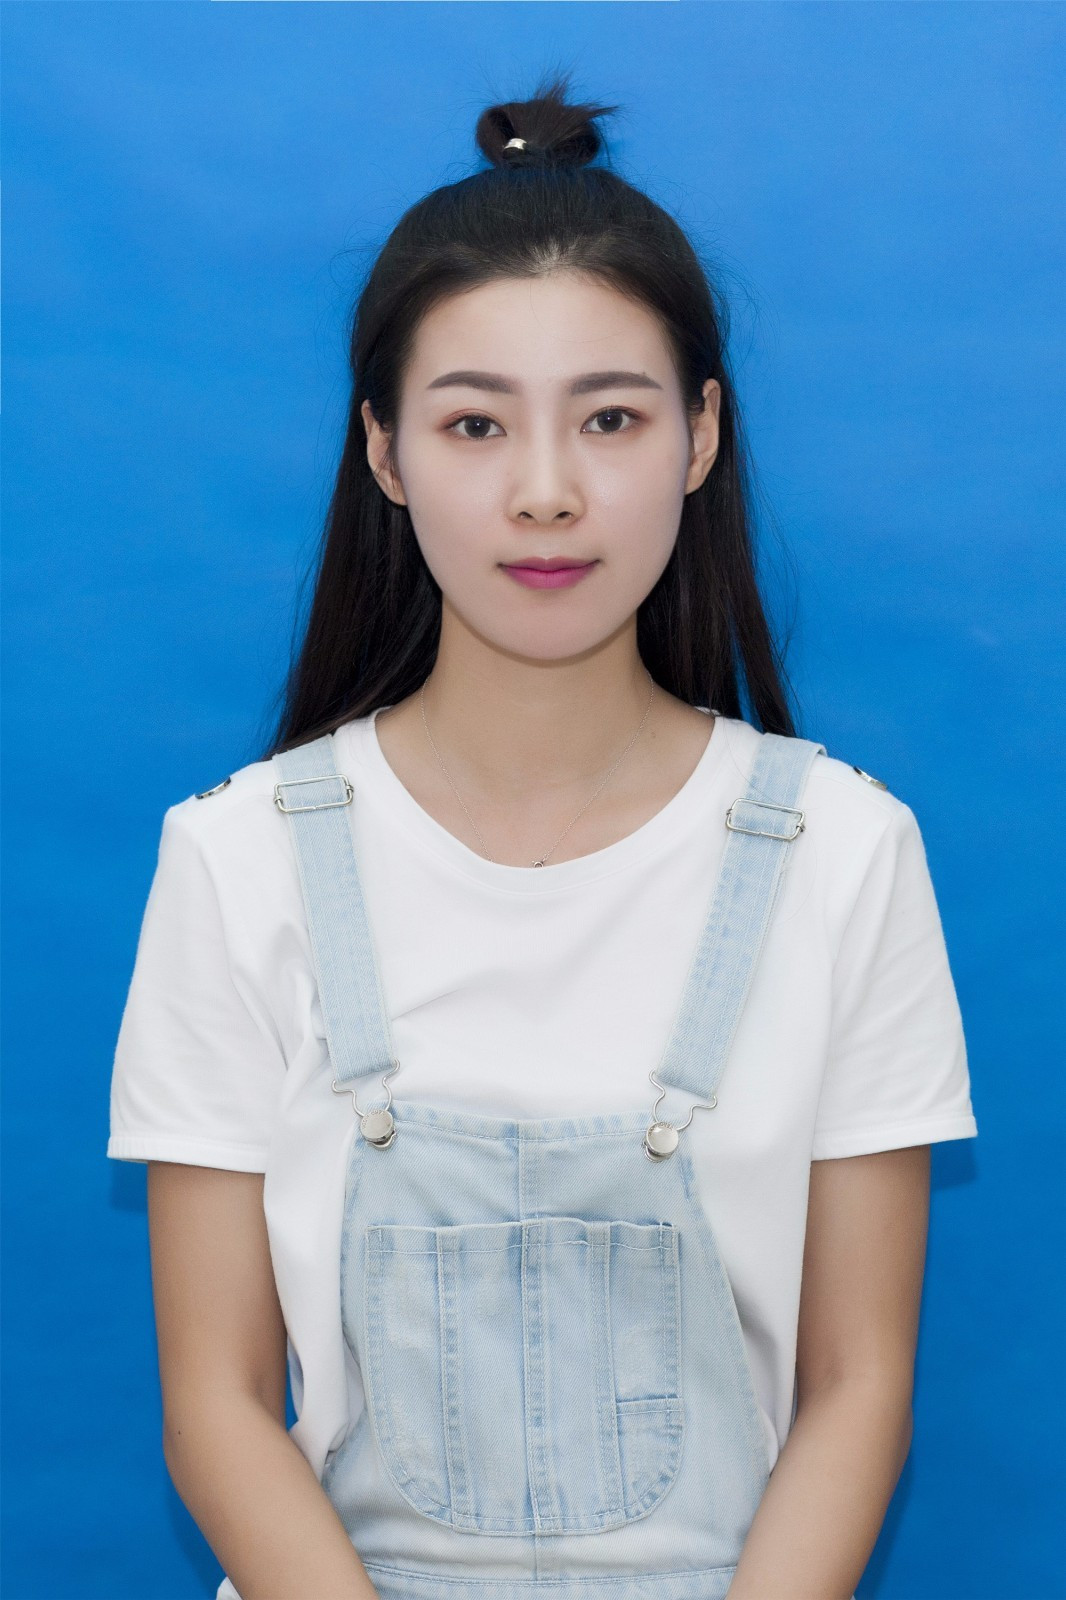unmask: (399, 293, 682, 647)
